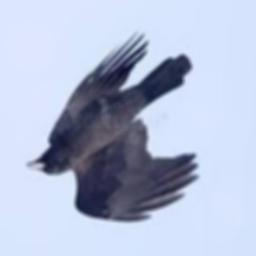Crow: (26, 34, 199, 225)
